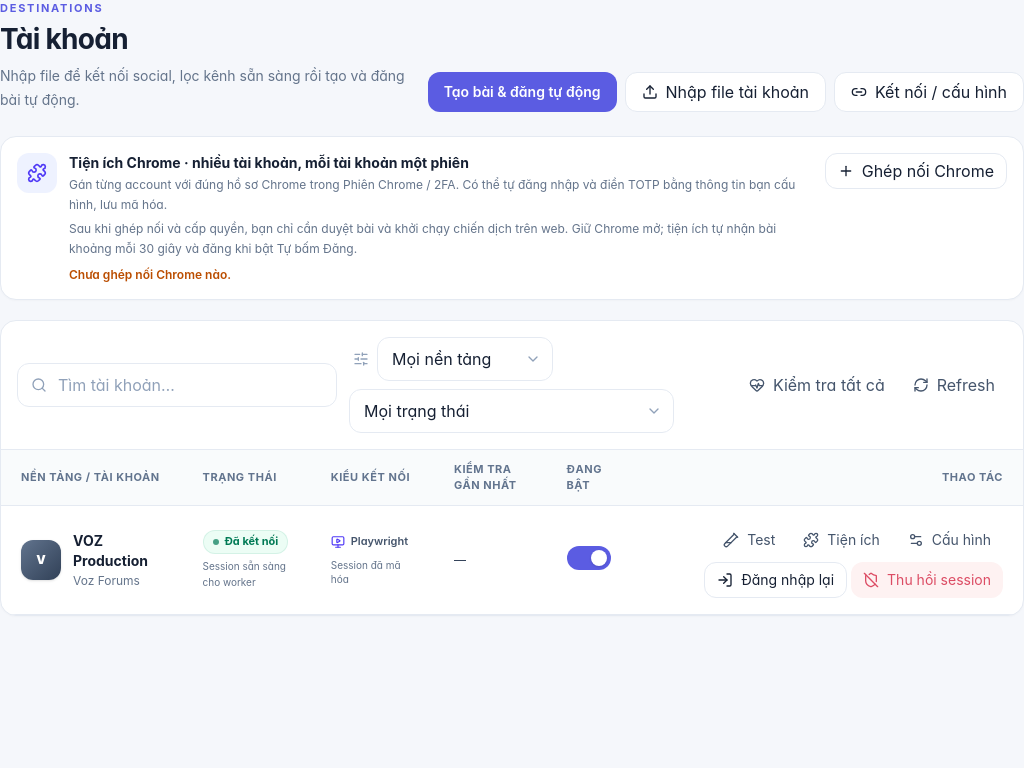
it: AccountsView Playwright flow › revokes only the encrypted browser session after explicit admin confirmation
Click the button "Thu hồi session" at (927,580), box [851,562,1003,598]
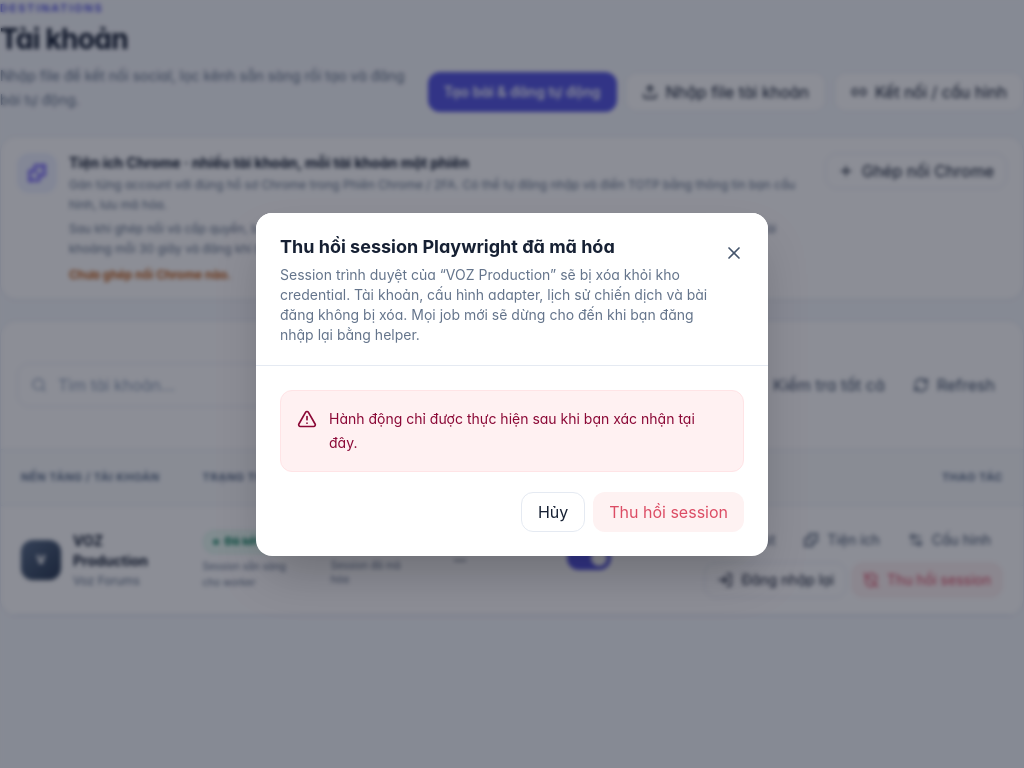
Expected: the dialog "Thu hồi session Playwright đã mã hóa" shows "Tài khoản, cấu hình adapter, lịch sử chiến dịch và bài đăng không bị xóa", [280,266,707,342]
Click the button "Thu hồi session" at (669,512), box [593,492,744,532]
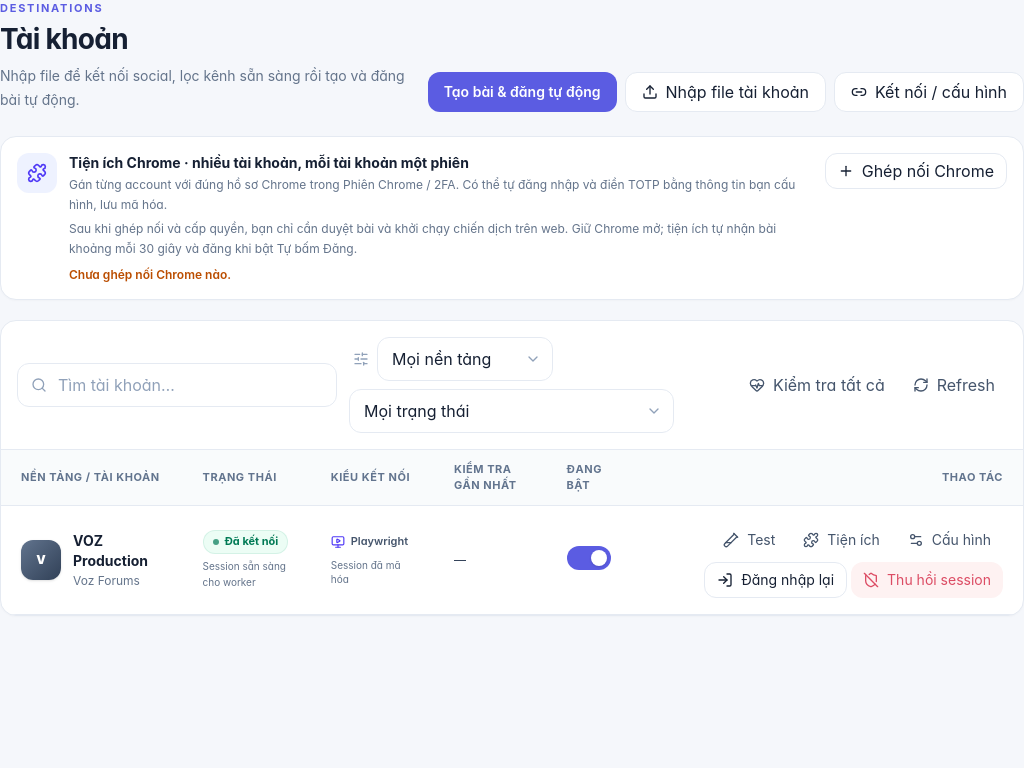
Expected: the heading "Thu hồi session Playwright đã mã hóa" is gone
